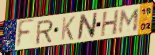F: (14, 18, 35, 51)
H: (100, 9, 121, 38)
K: (60, 15, 77, 42)
M: (117, 7, 141, 35)
N: (76, 11, 99, 41)
R: (34, 19, 54, 46)
